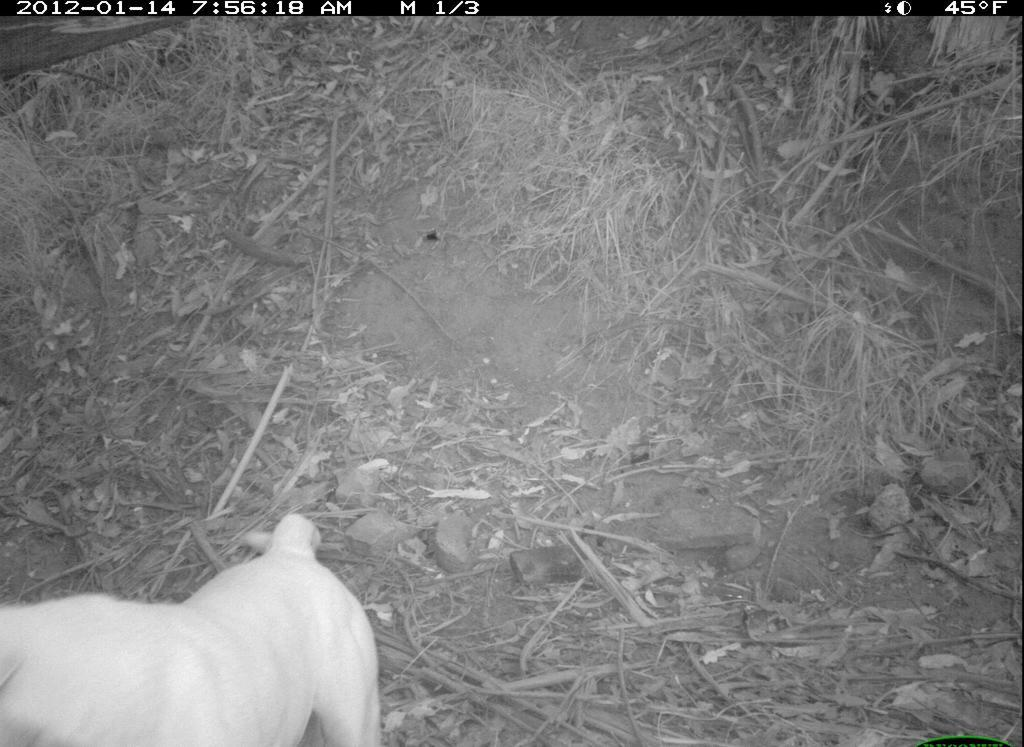dog: (3, 514, 381, 747)
